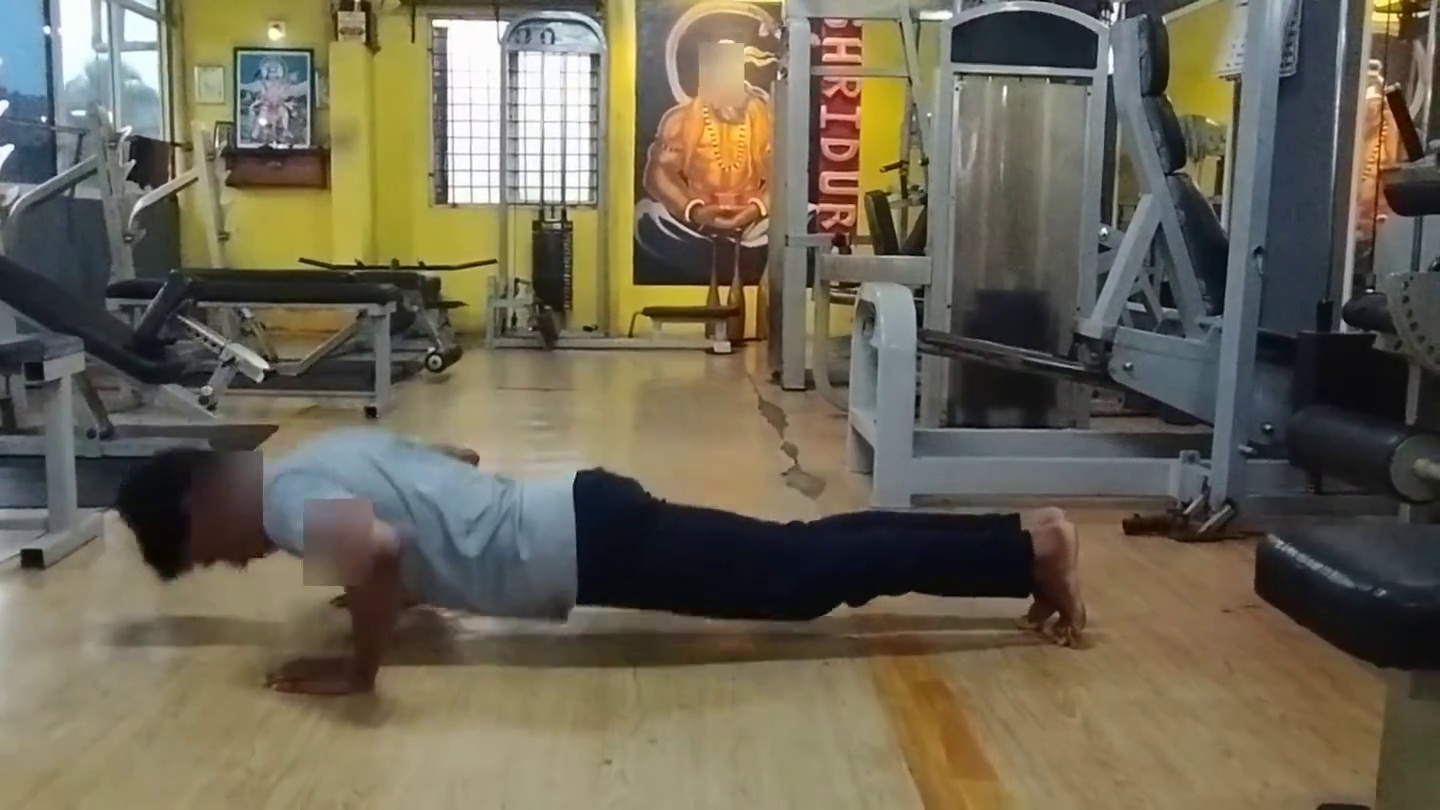push_up: (114, 385, 1168, 773)
